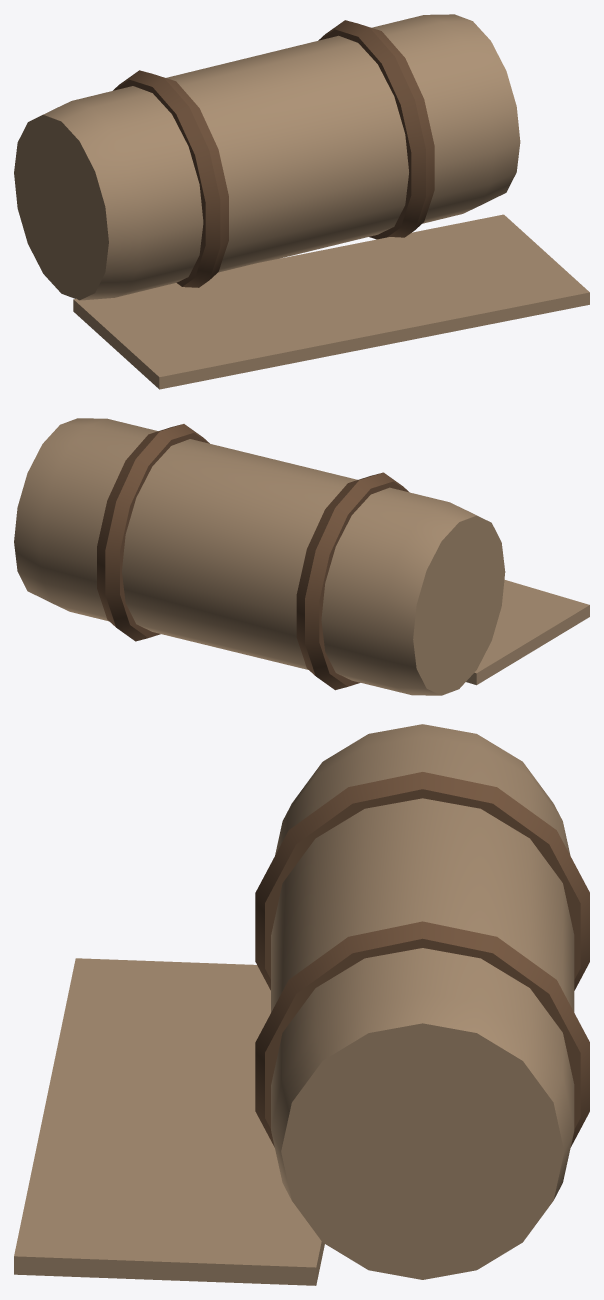
The model's file is beast_hide.glb.
3 renders of one model, top to bottom at view 1: azimuth 30°, elevation 25°; view 2: azimuth 150°, elevation 25°; view 3: azimuth 270°, elevation 25°, orthographic. The views are drawn at different scales.
Parts seen in each view (by area): view 1: beast_hide; view 2: beast_hide; view 3: beast_hide.
Boxes of the visible parts, x1,y1,x2,y2 form: beast_hide: (14, 14, 589, 389); beast_hide: (14, 418, 589, 695); beast_hide: (14, 724, 589, 1285).
Size of the model in its own units: 0.1463 by 0.0678 by 0.1139.
